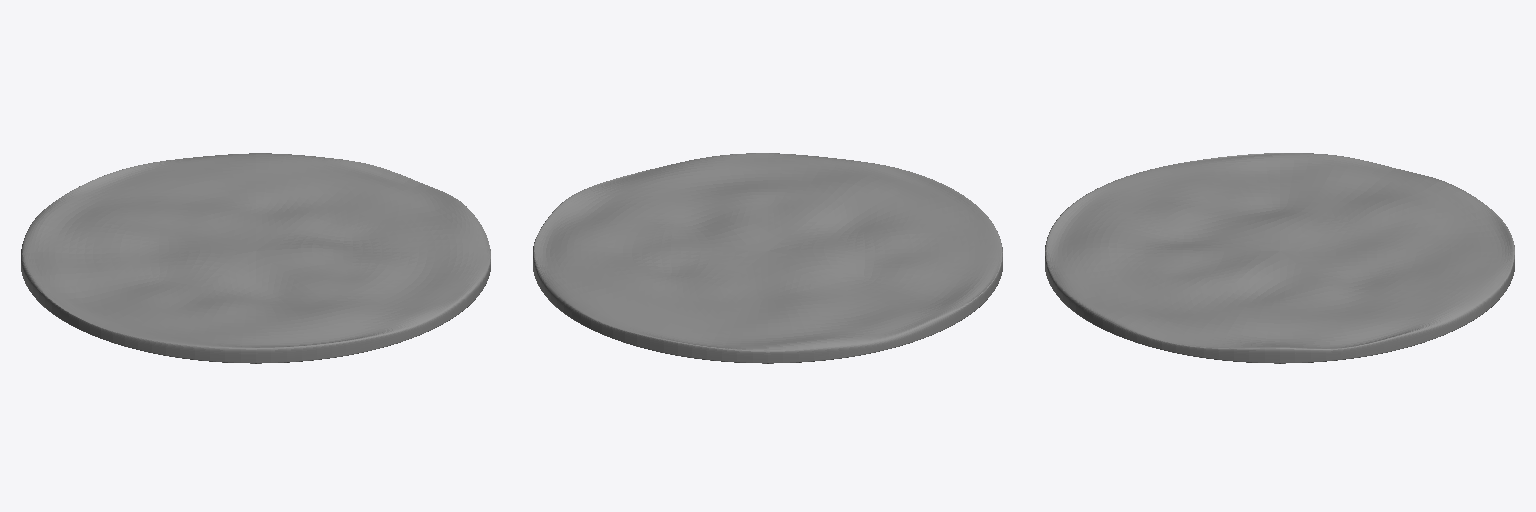
File: grass7.obj
The picture shows the model from 3 angles: view 1: azimuth 30°, elevation 25°; view 2: azimuth 150°, elevation 25°; view 3: azimuth 270°, elevation 25°; orthographic projection.
Size of the model in its own units: 14.34 by 0.5769 by 14.34.